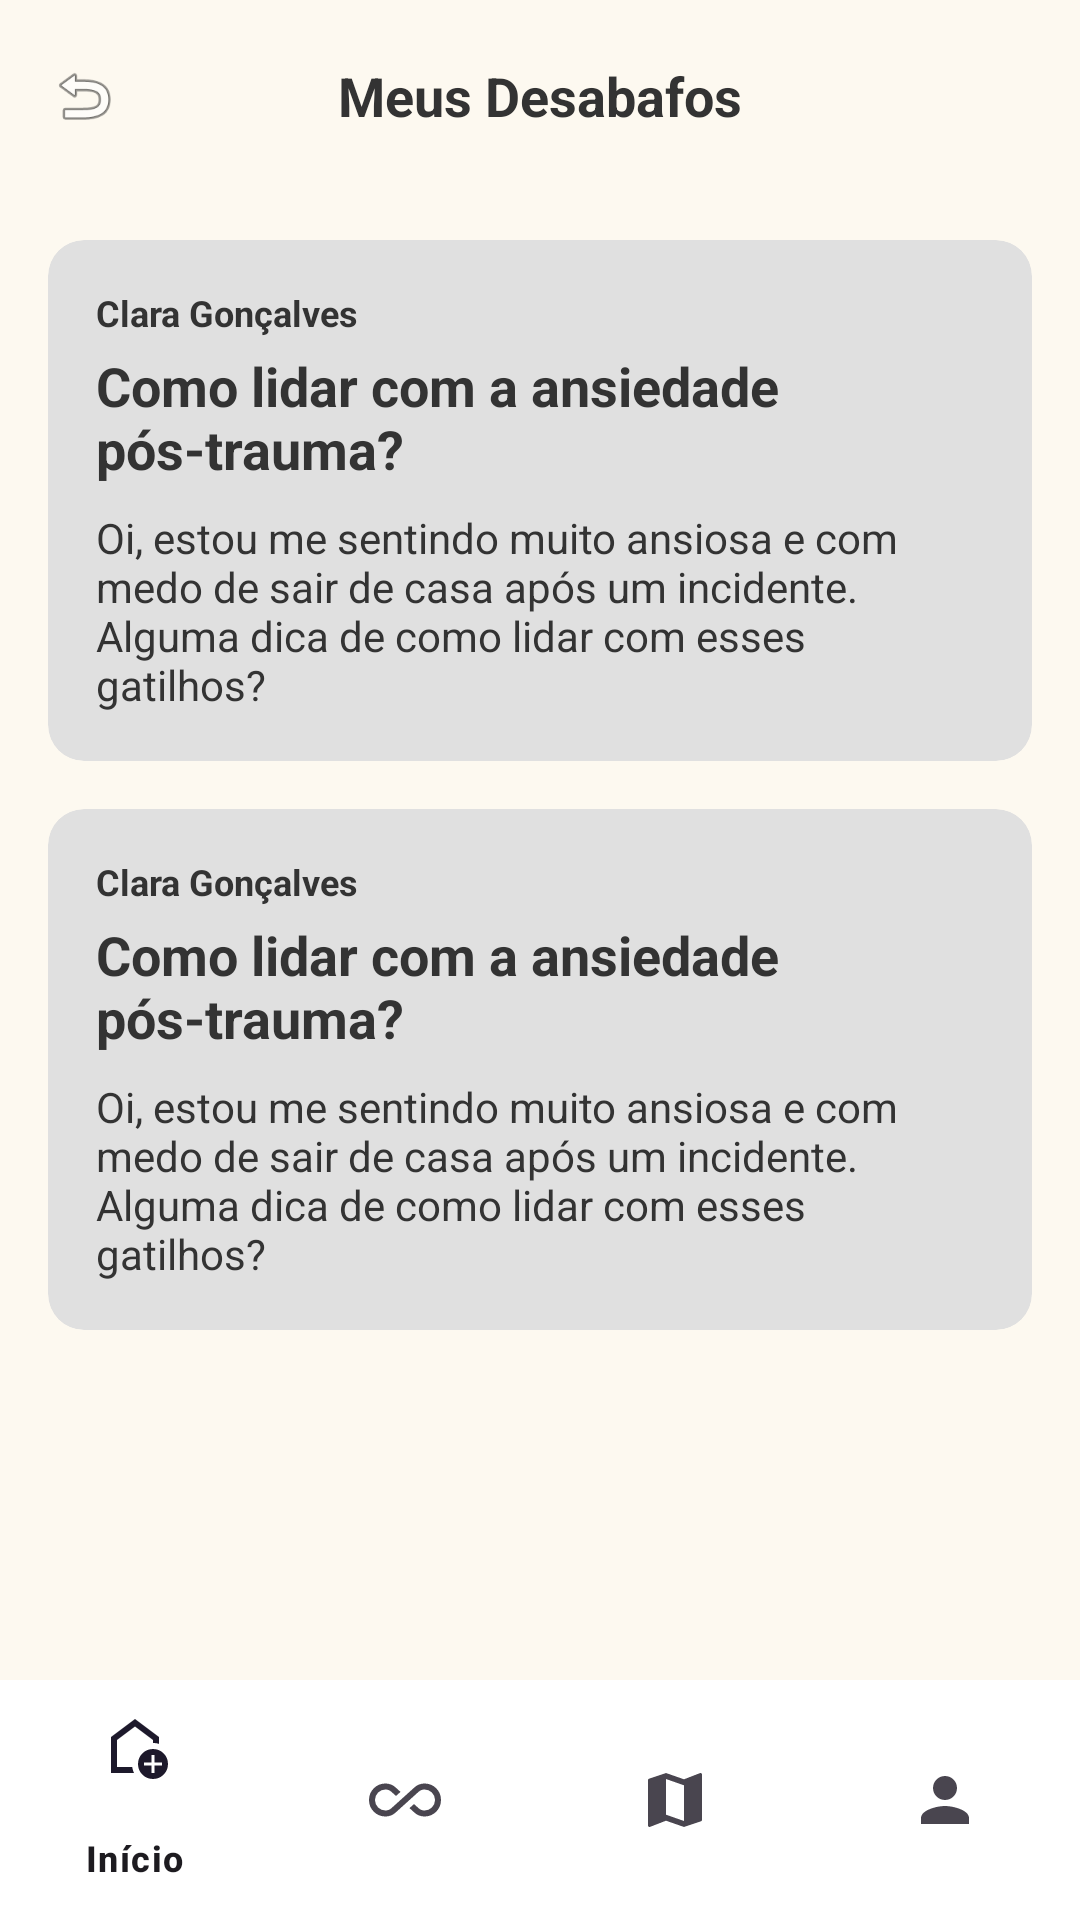

Screen size 1080 x 1920. Icon name, then its center in pixels as (x,y):
Voltar: (85,96)
